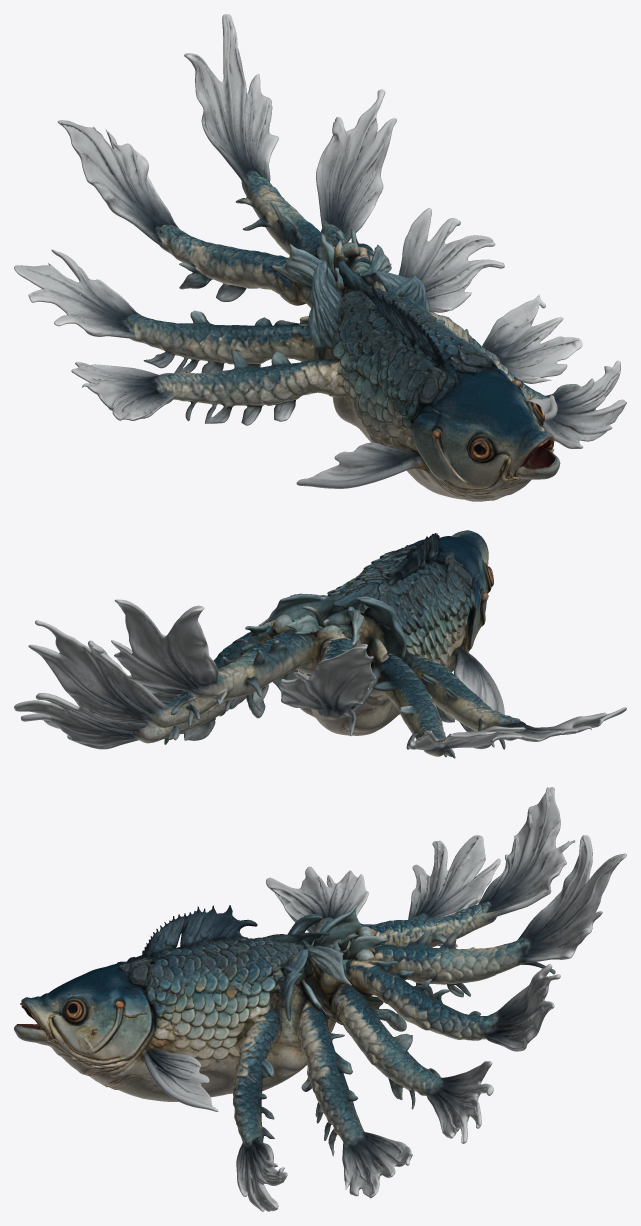
File: heluoyu.glb
3 views of the same model, one above another, from view 1: azimuth 30°, elevation 25°; view 2: azimuth 150°, elevation 25°; view 3: azimuth 270°, elevation 25° (orthographic). The views are drawn at different scales.
Visible parts, largest first — view 1: tripo_node_1a1b615f-4217-4b2c-bc32-dd3566edaa4a; view 2: tripo_node_1a1b615f-4217-4b2c-bc32-dd3566edaa4a; view 3: tripo_node_1a1b615f-4217-4b2c-bc32-dd3566edaa4a.
Boxes of the visible parts, x1,y1,x2,y2 form: tripo_node_1a1b615f-4217-4b2c-bc32-dd3566edaa4a: [14, 14, 626, 501]; tripo_node_1a1b615f-4217-4b2c-bc32-dd3566edaa4a: [14, 530, 626, 758]; tripo_node_1a1b615f-4217-4b2c-bc32-dd3566edaa4a: [14, 787, 626, 1211].
Size of the model in its own units: 0.8742 by 0.4942 by 0.9806.
Materials: 1 (1 with a texture image).
